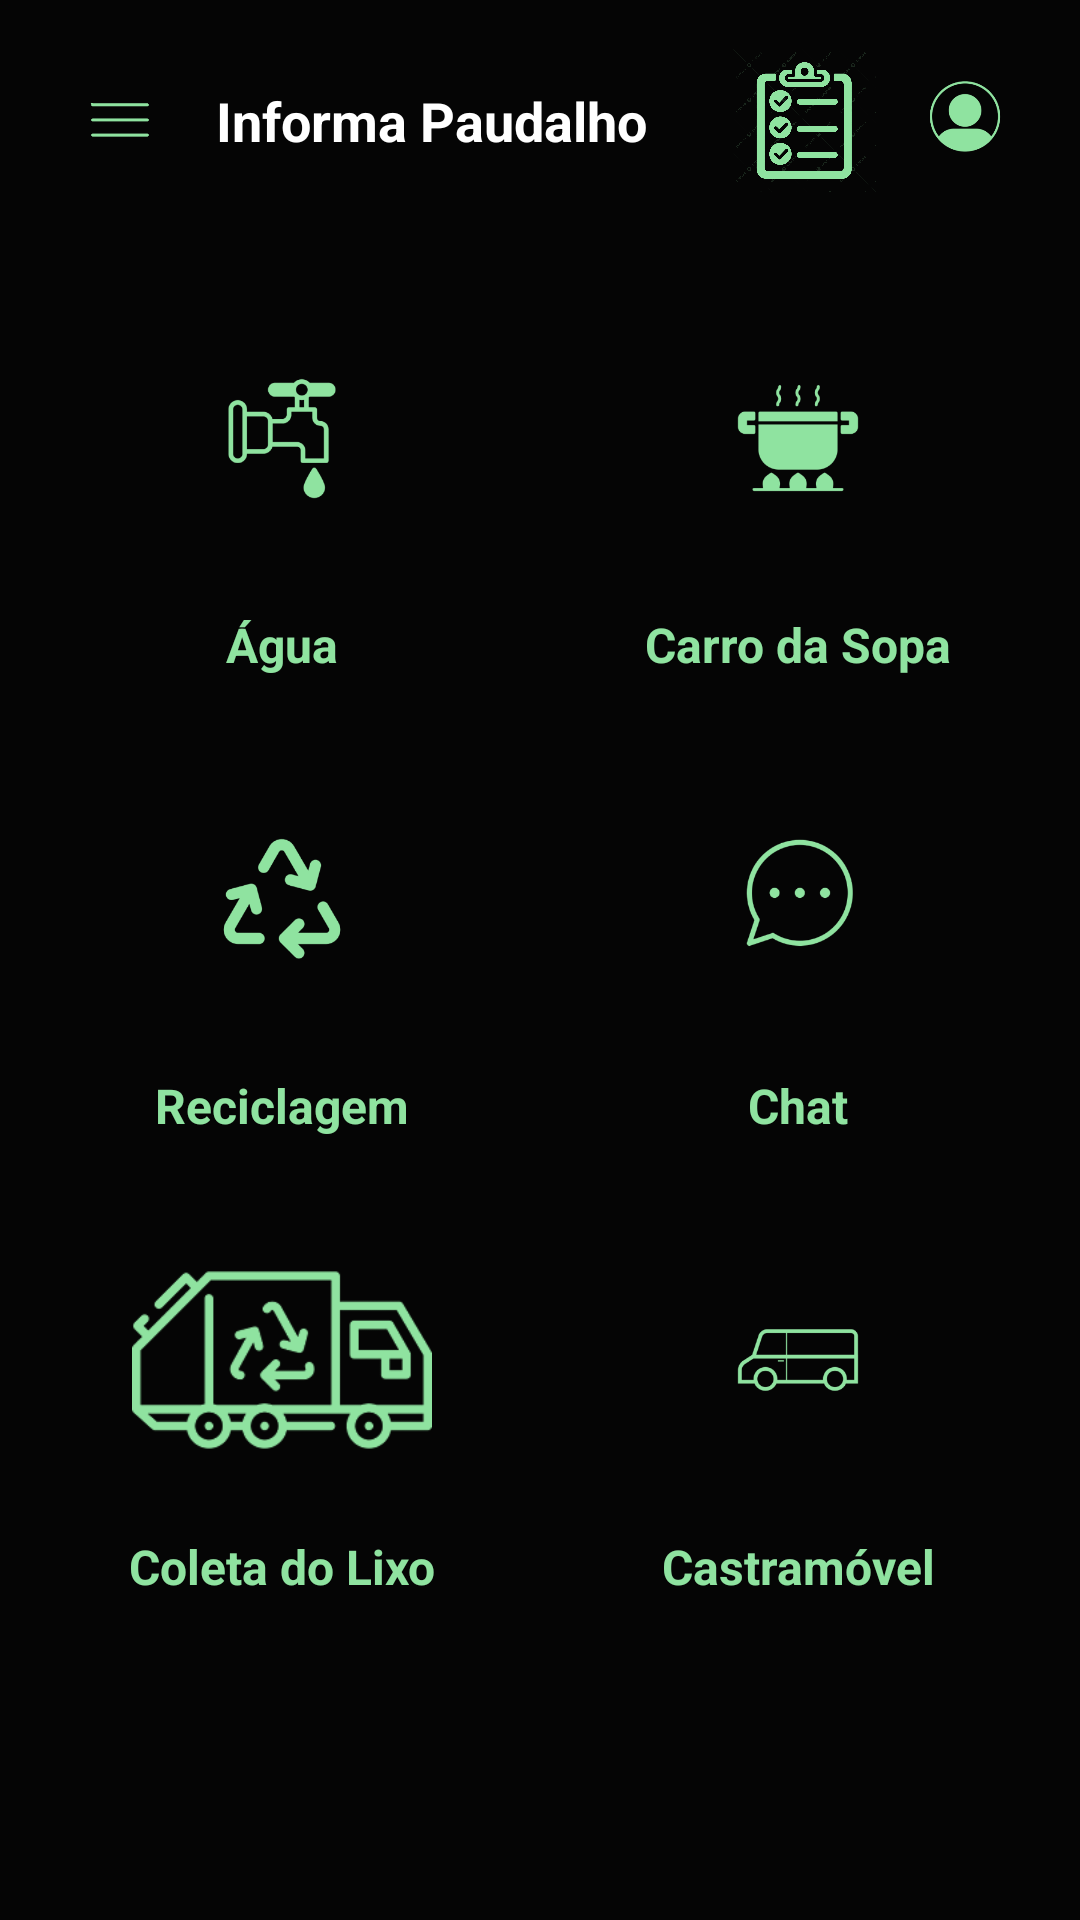

Screen size 1080px×1920px. Icon name, then its box in pixels as [x1,y1,x2,y2]:
Checklist: [736,52,876,192]
Perfil: [930,81,1000,152]
